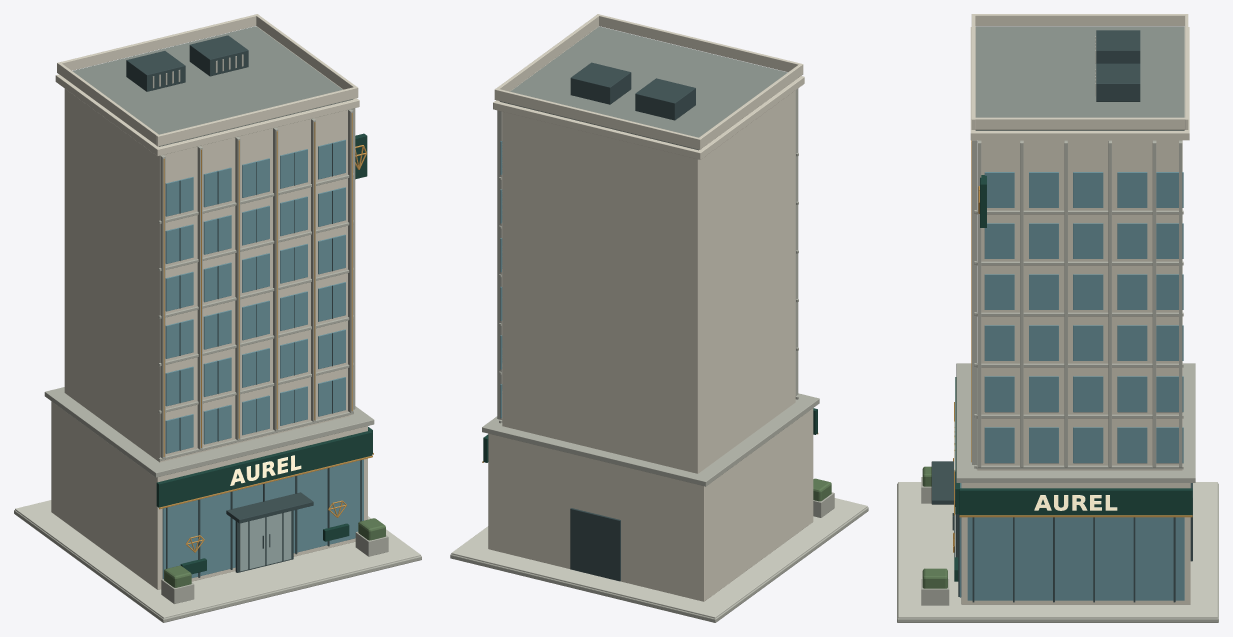
File: large-4x4-department-07.glb
3 renders of one model, left to right at view 1: azimuth 30°, elevation 25°; view 2: azimuth 150°, elevation 25°; view 3: azimuth 270°, elevation 25°, orthographic. The views are drawn at different scales.
Parts seen in each view (by area): view 1: TowerBody, RetailPodium, RoofDeck, FrontShopGlass, Paving, PodiumCornice, FrontBrandBand, CrownCornice, EntryDoors, RoofParapet, RoofParapet.001, Lot (+56 smaller); view 2: TowerBody, RetailPodium, RoofDeck, Paving, PodiumCornice, CrownCornice, RearLoadingDoor, RoofParapet.001, RoofParapet, Lot, HVAC.001, HVAC (+4 smaller); view 3: TowerBody, SideShopGlass, RoofDeck, Paving, PodiumCornice, SideBrandBand, RetailPodium, CrownCornice, RoofParapet.002, RoofParapet.003, VerticalPier.005, Lot (+51 smaller).
Boxes of the visible parts, x1,y1,x2,y2 form: TowerBody: [64, 89, 350, 462]; RetailPodium: [51, 401, 367, 589]; RoofDeck: [72, 26, 353, 146]; FrontShopGlass: [162, 459, 363, 578]; Paving: [15, 500, 420, 618]; PodiumCornice: [44, 387, 374, 477]; FrontBrandBand: [156, 430, 372, 507]; CrownCornice: [55, 26, 359, 156]; EntryDoors: [240, 511, 291, 571]; RoofParapet: [156, 87, 358, 146]; RoofParapet.001: [57, 14, 258, 73]; Lot: [14, 510, 421, 622]; TowerBody: [502, 90, 795, 473]; RetailPodium: [488, 408, 813, 601]; RoofDeck: [499, 26, 787, 150]; Paving: [451, 498, 867, 618]; PodiumCornice: [482, 393, 819, 486]; CrownCornice: [493, 27, 804, 159]; RearLoadingDoor: [570, 508, 620, 581]; RoofParapet.001: [494, 88, 701, 149]; RoofParapet: [597, 14, 803, 75]; Lot: [450, 507, 868, 622]; HVAC.001: [570, 62, 631, 104]; HVAC: [635, 78, 695, 120]; TowerBody: [977, 140, 1182, 470]; SideShopGlass: [967, 517, 1184, 600]; RoofDeck: [975, 26, 1184, 130]; Paving: [898, 482, 1217, 618]; PodiumCornice: [956, 363, 1195, 482]; SideBrandBand: [959, 488, 1192, 515]; RetailPodium: [961, 483, 1190, 604]; CrownCornice: [970, 27, 1189, 140]; RoofParapet.002: [974, 14, 1186, 26]; RoofParapet.003: [974, 117, 1186, 129]; VerticalPier.005: [972, 140, 977, 464]; Lot: [897, 483, 1218, 622].
Bounding box in the file's own units: 16 × 27.27 × 16.
